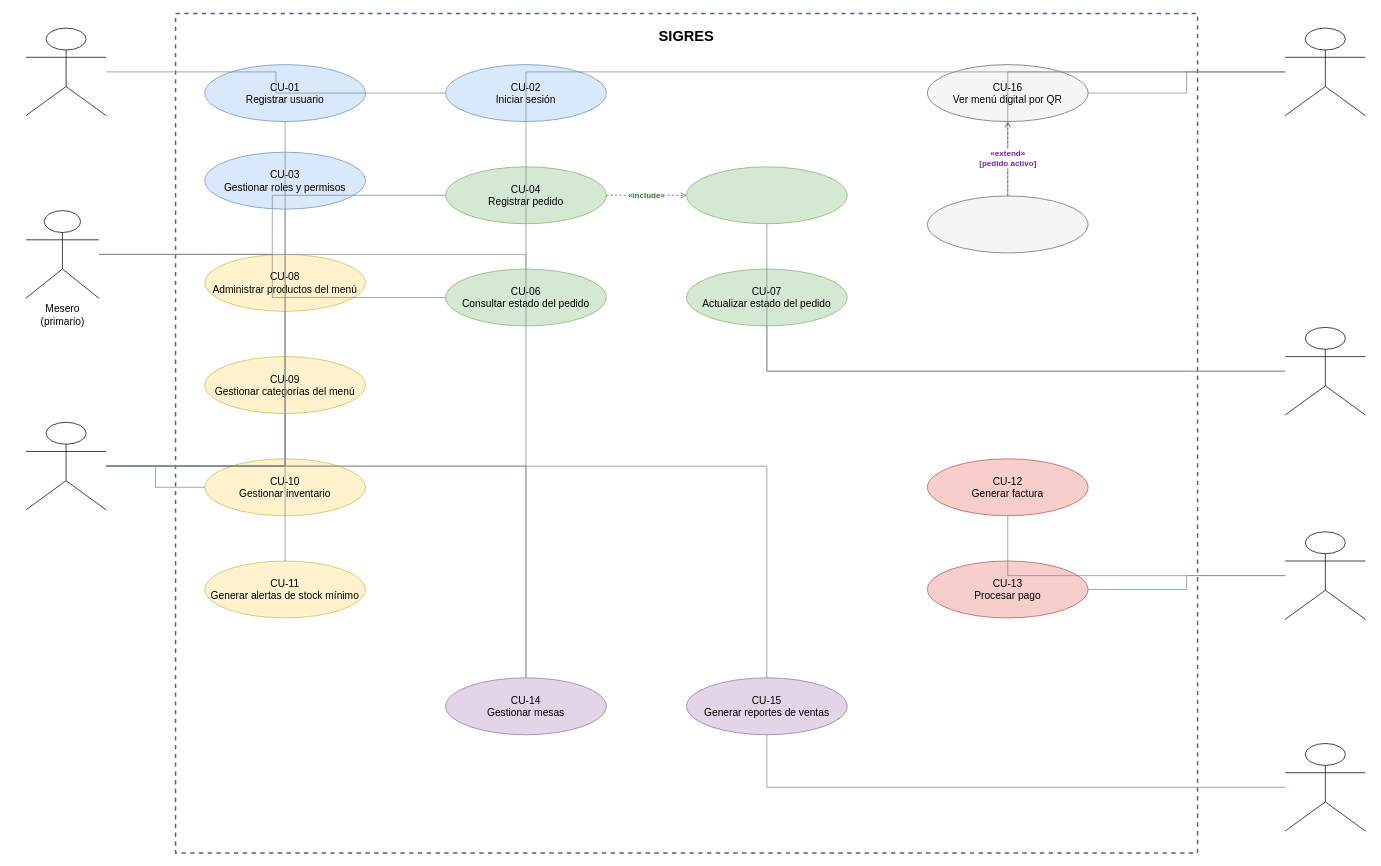
Image size: 1381x866. Some labels were removed from this diagram. Each missing label, with the centre of its shape:
"Administrador" goes at [65,466].
"Cajero" goes at [1324,575].
"Cliente (primario)" goes at [1324,71].
"CU-05 Enviar pedido a cocina" goes at [766,195].
"CU-17 Consultar consumo actual" goes at [1007,224].
"Gerente" goes at [1324,787].
"Personal de cocina" goes at [1324,371].
"Usuario del restaurante" goes at [65,71].
